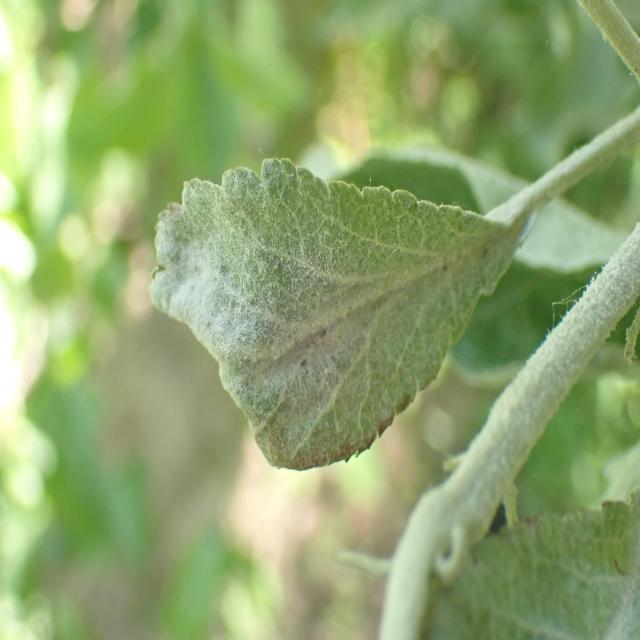Powdery_mildew: (145, 154, 515, 489), (413, 476, 640, 640)
